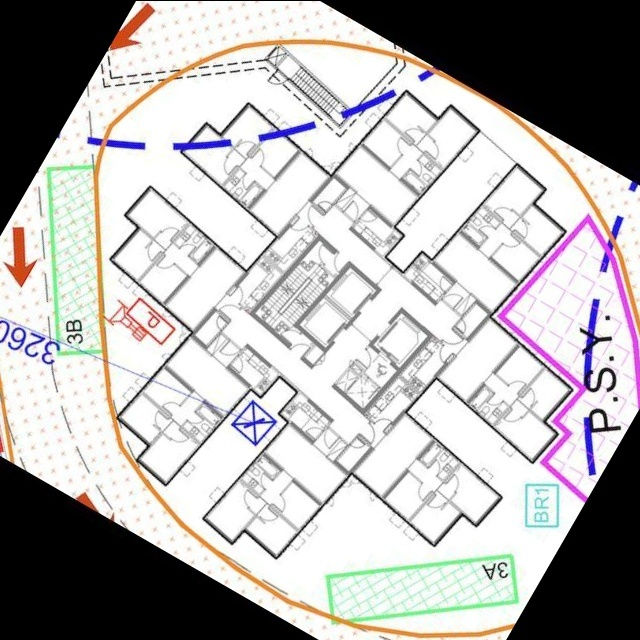tower_crane: (231, 400, 280, 449)
